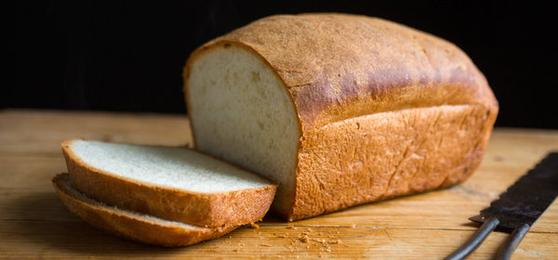white_bread: (279, 16, 493, 217)
